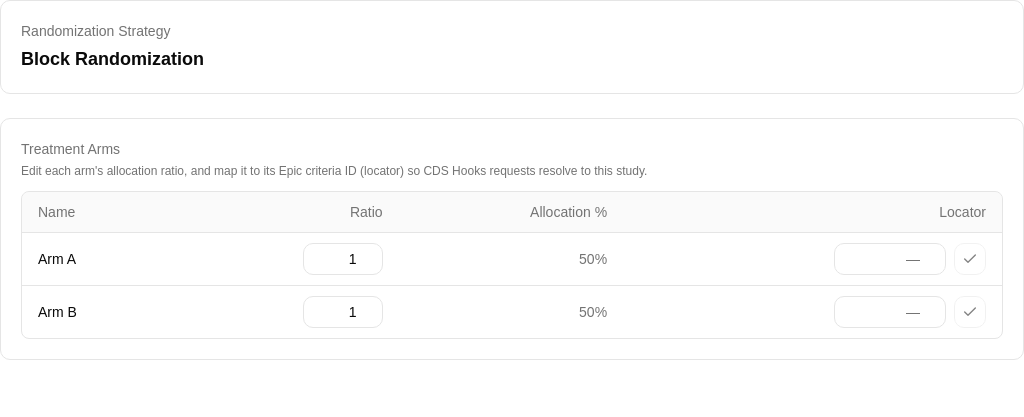
Test: StudyConfigPage — editable ratios › blocks applying when every arm ratio is zero
Expected: the heading "Treatment Arms" is shown, [21, 141, 120, 157]
Replace the text in the number field named "ratio for arm Arm A" with "0" at (343, 259), box [303, 243, 383, 275]
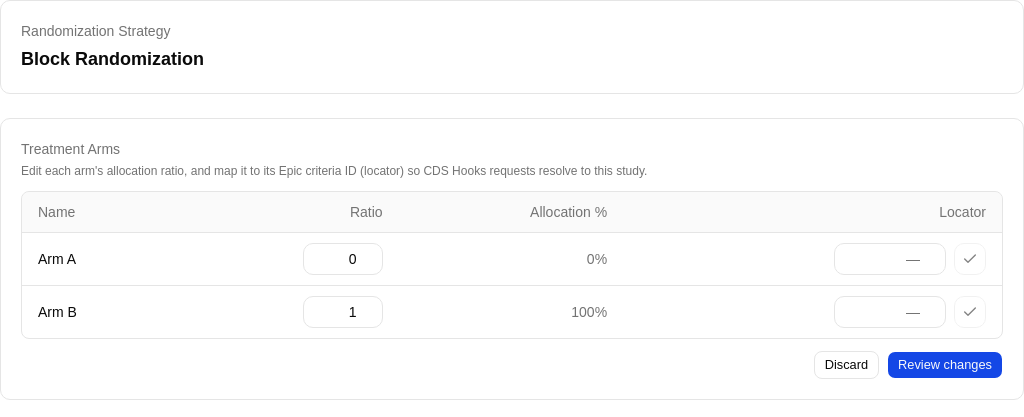
Replace the text in the number field named "ratio for arm Arm B" with "0" at (343, 312), box [303, 296, 383, 328]
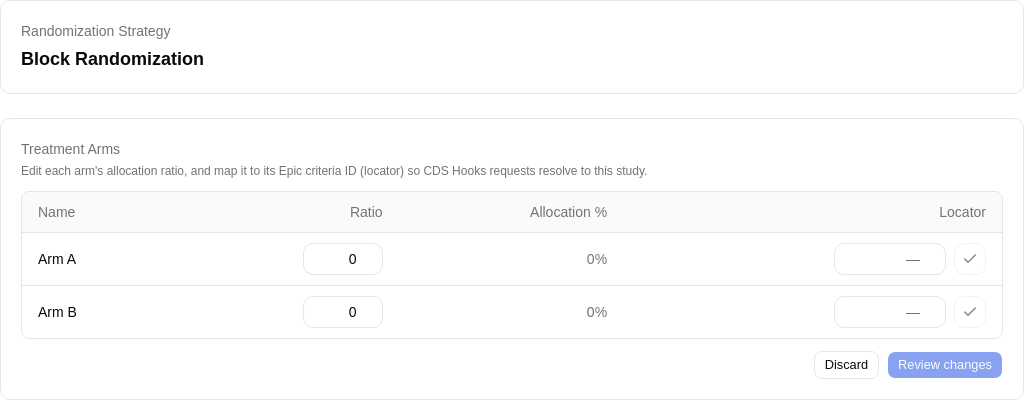
Expected: the button "Review changes" is disabled, [887, 351, 1003, 379]
